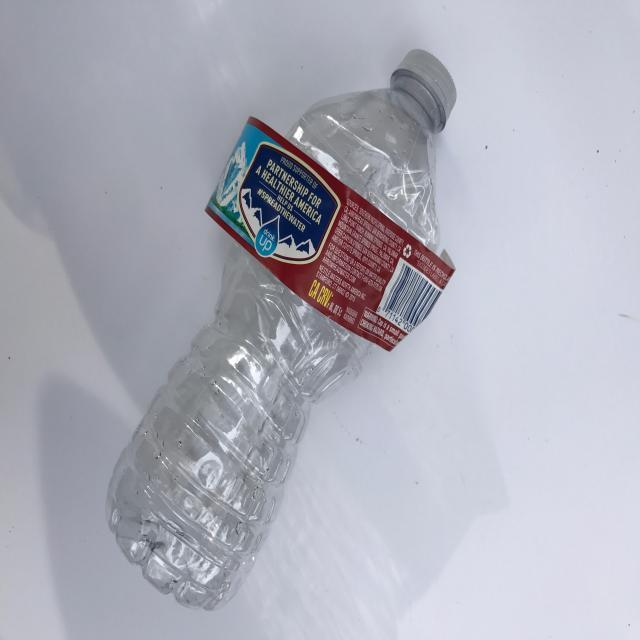plastic: (101, 48, 457, 614)
